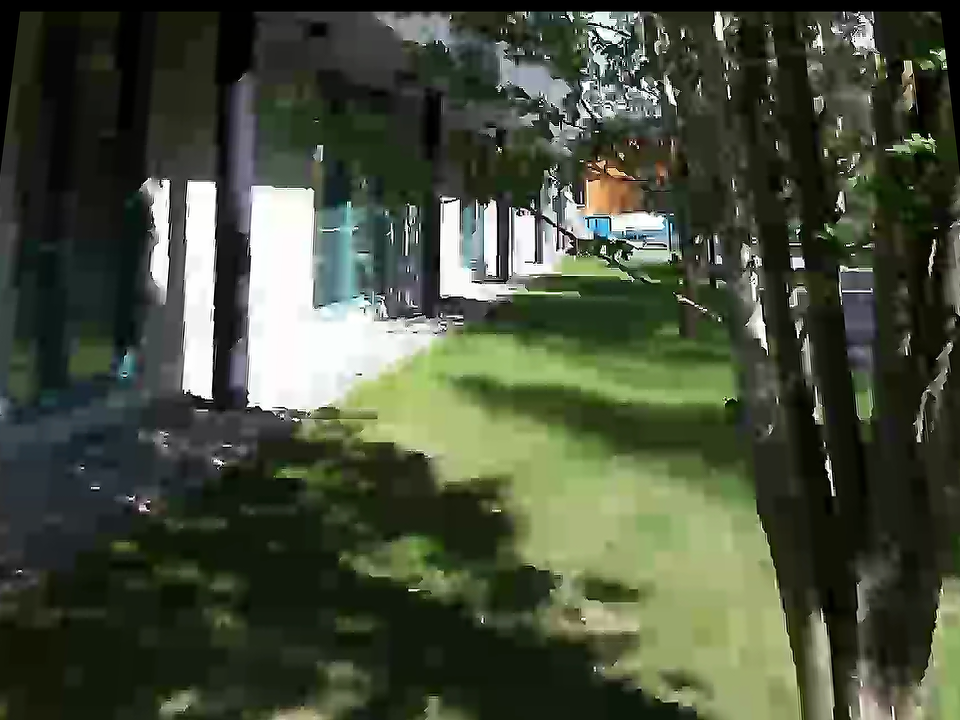branch: (547, 200, 720, 335)
trunk: (699, 42, 944, 706), (663, 122, 719, 361)
